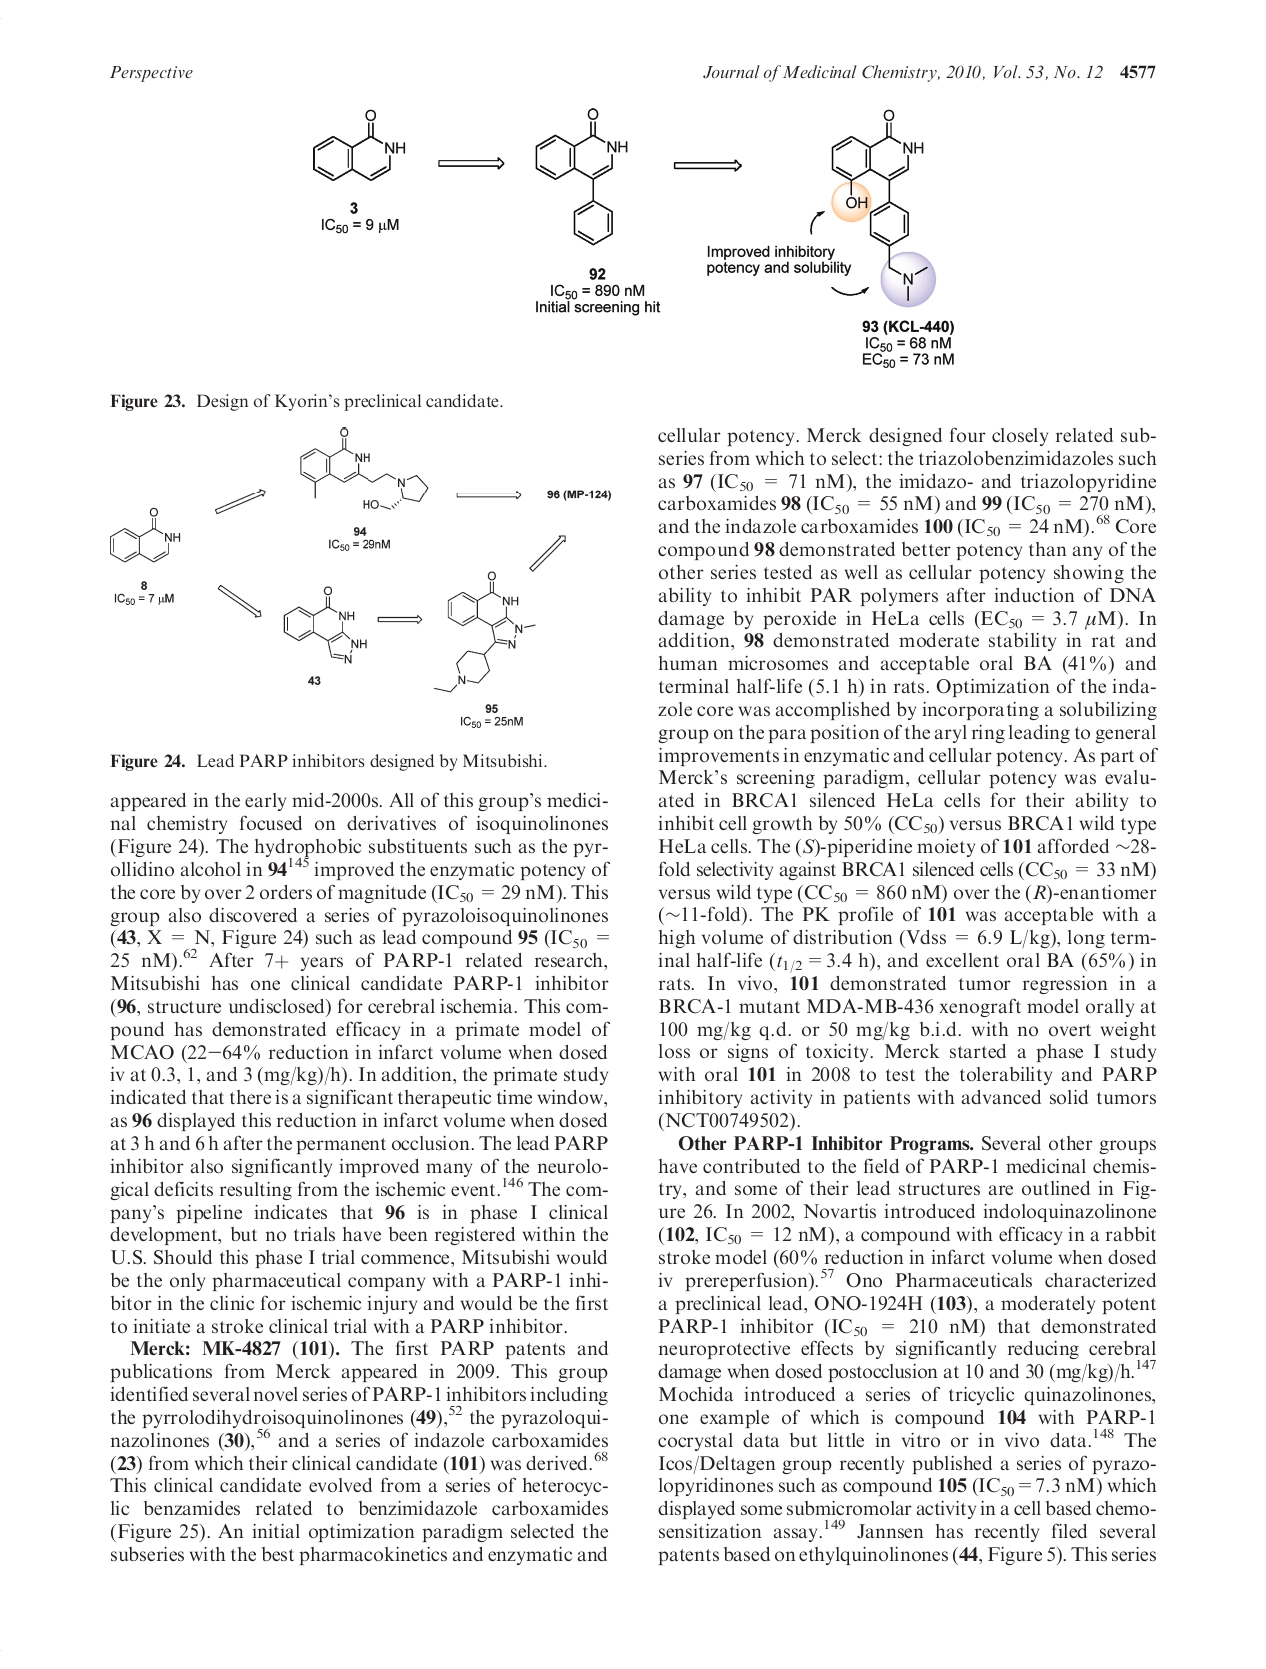exist_molecular: (827, 108, 935, 307), (532, 98, 632, 251), (430, 569, 537, 696), (301, 426, 440, 515), (313, 105, 410, 193), (277, 581, 370, 665), (102, 503, 190, 571)
